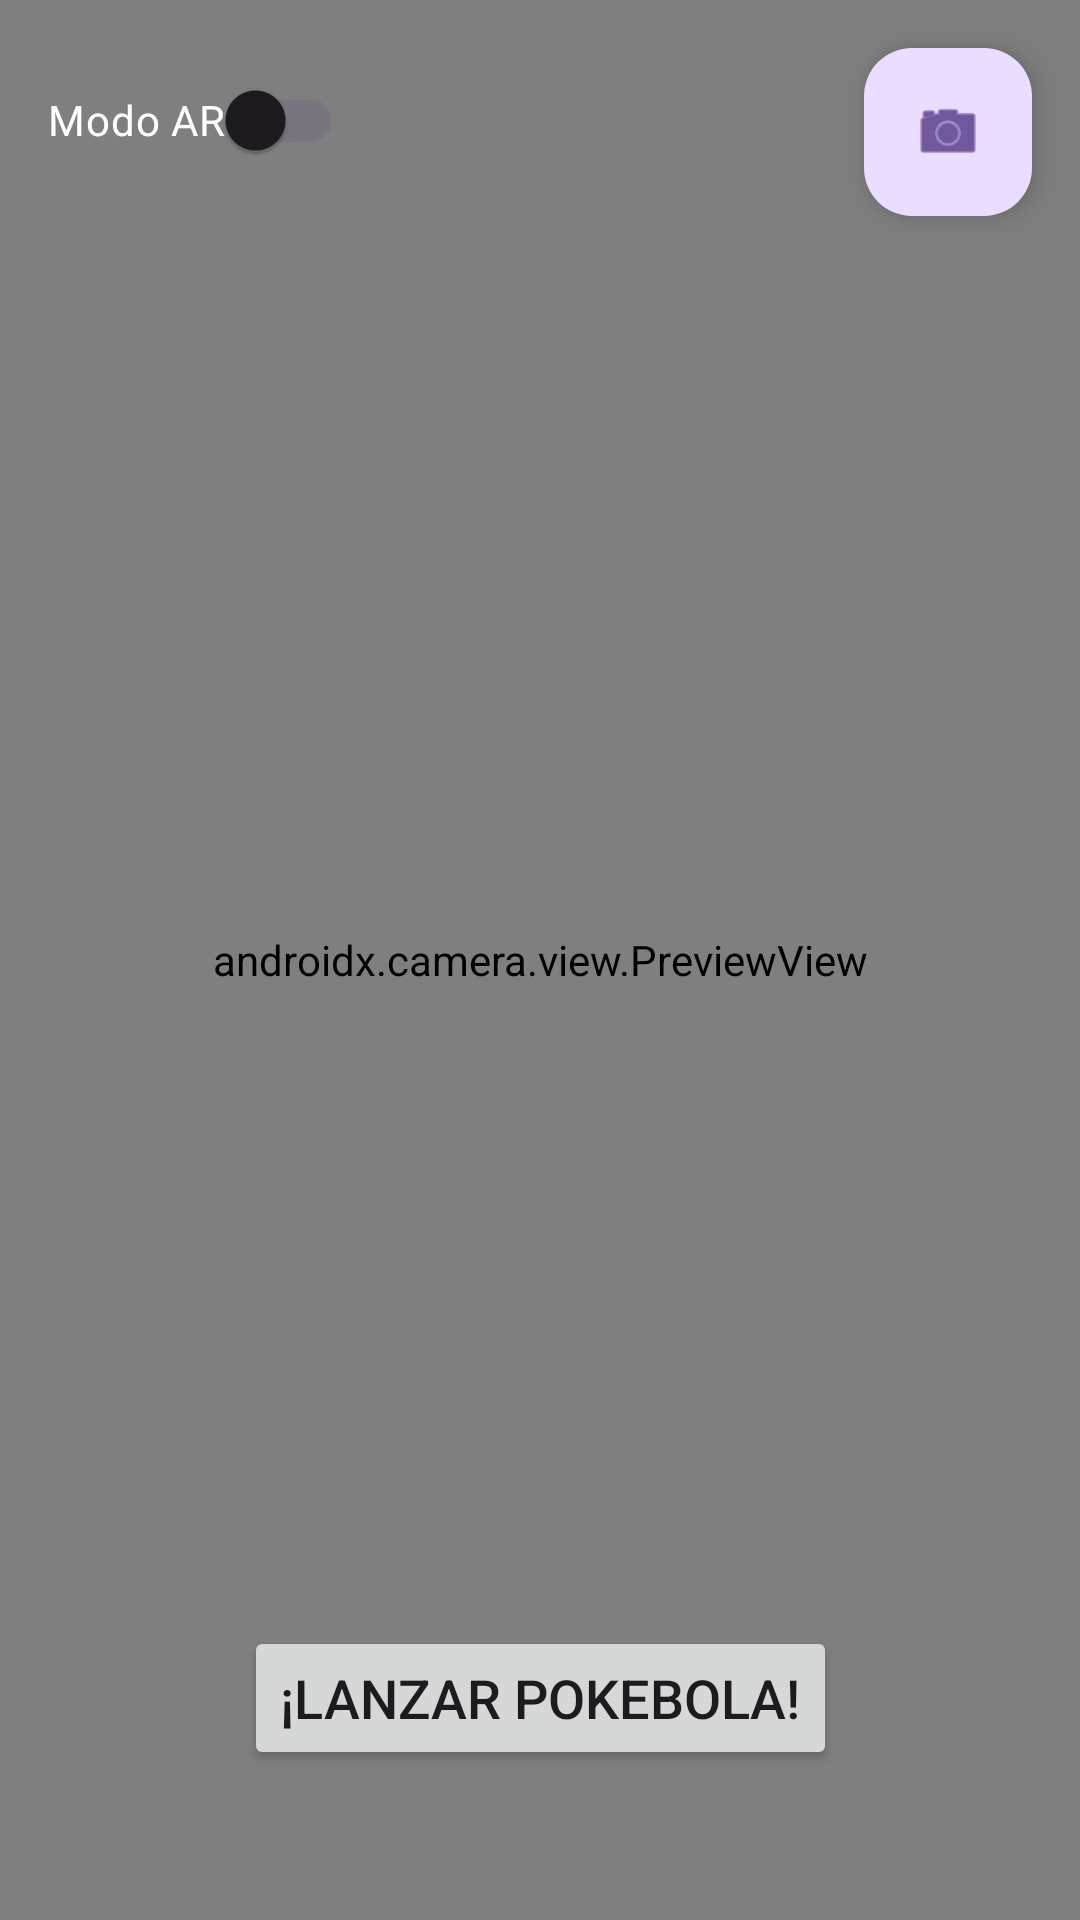

Icon click points for this 1080×1920 phone screenshot, format (x,y):
Hacer Foto: (948,132)
